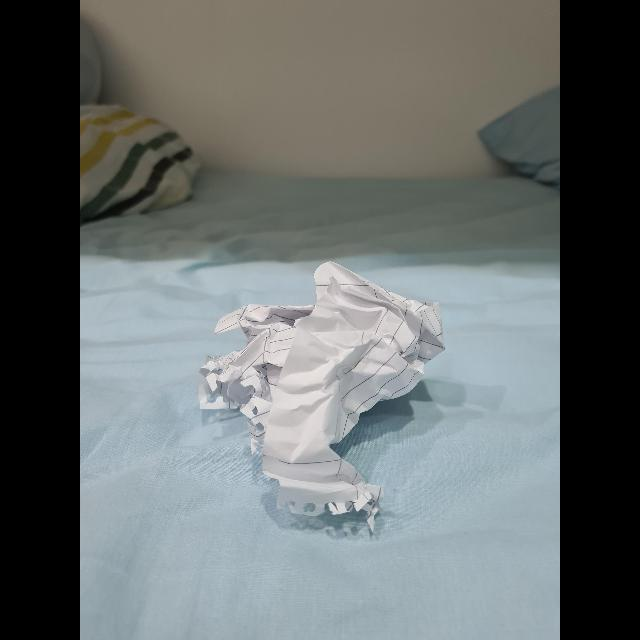scrap_paper: (205, 258, 448, 520)
